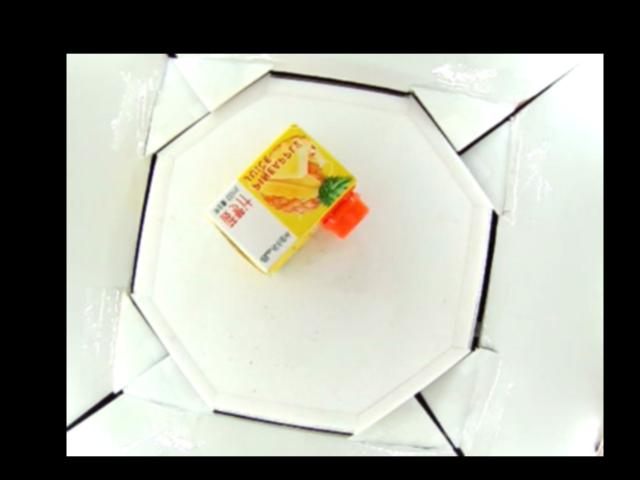Bottle: (207, 125, 371, 281)
